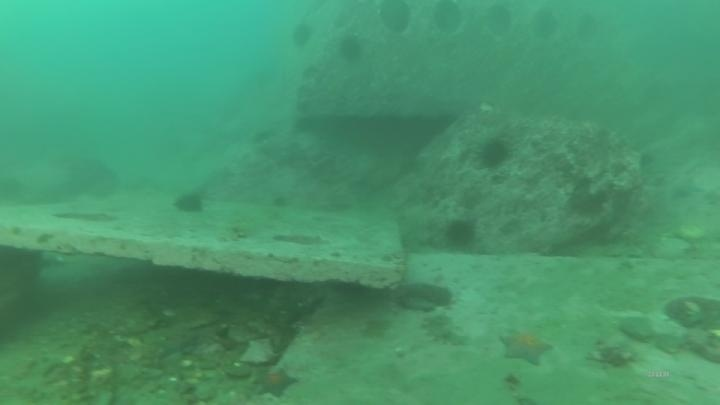echinus: (441, 216, 480, 252), (470, 133, 508, 169), (172, 189, 207, 217)
holothurian: (418, 309, 470, 348)
starfish: (498, 324, 555, 368), (251, 364, 300, 400), (156, 331, 202, 359)
